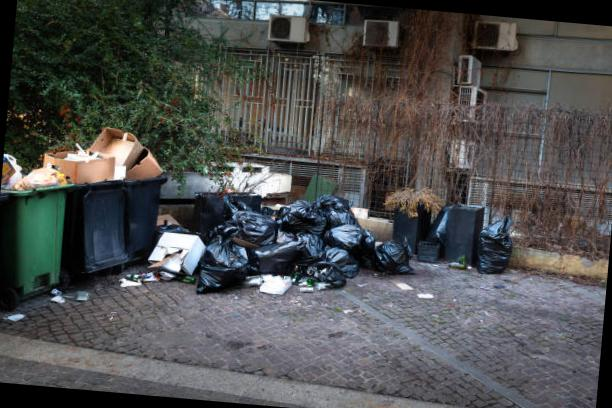trash: (154, 174, 394, 302), (92, 131, 172, 184), (45, 136, 122, 190), (0, 149, 74, 198), (468, 220, 520, 280), (370, 220, 420, 276), (415, 218, 447, 266), (388, 184, 432, 210)
trash_can_overflow: (40, 130, 140, 286), (0, 137, 79, 310), (90, 120, 177, 261), (428, 175, 530, 272), (373, 178, 440, 286)
